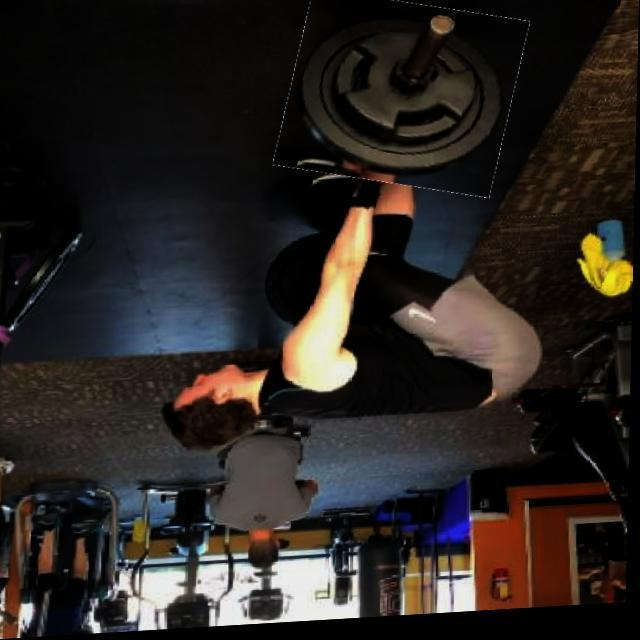barbell: (282, 1, 524, 204)
